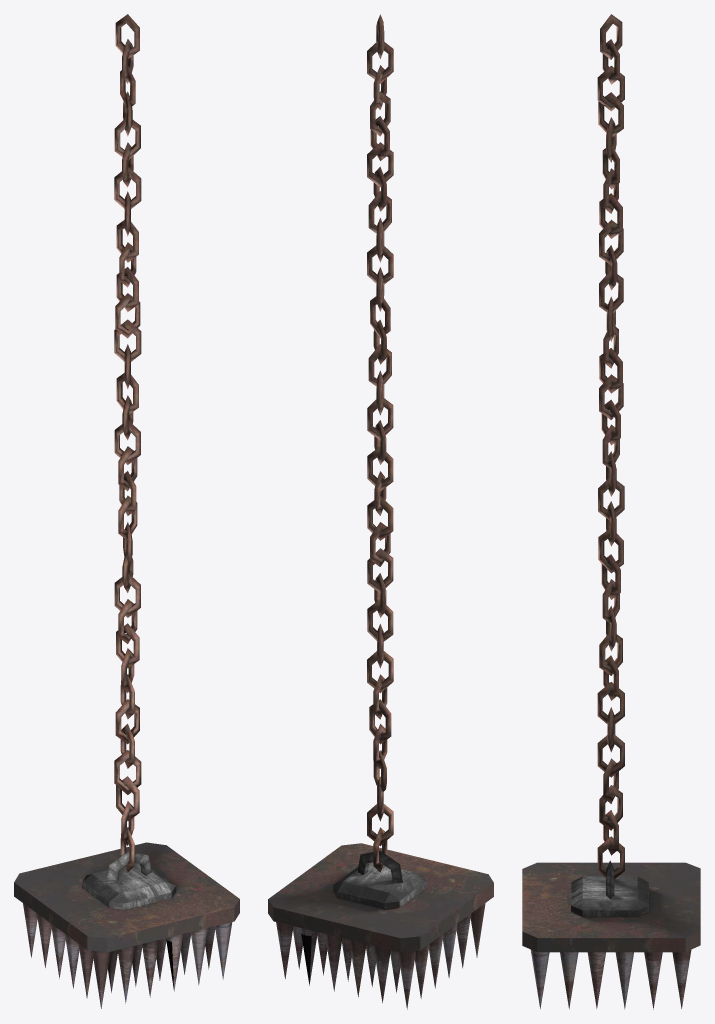
The model's file is trap_spikes.obj.
3 renders of one model, left to right at view 1: azimuth 30°, elevation 25°; view 2: azimuth 150°, elevation 25°; view 3: azimuth 270°, elevation 25°, orthographic.
Parts seen in each view (by area): view 1: Trap_Spikes, Trap_Chain; view 2: Trap_Spikes, Trap_Chain; view 3: Trap_Chain, Trap_Spikes.
Part boxes in pixels (x1=…): Trap_Spikes: x1=14, y1=842, x2=239, y2=1008; Trap_Chain: x1=82, y1=14, x2=175, y2=909; Trap_Spikes: x1=268, y1=843, x2=493, y2=1009; Trap_Chain: x1=333, y1=14, x2=427, y2=908; Trap_Chain: x1=571, y1=14, x2=648, y2=916; Trap_Spikes: x1=522, y1=862, x2=700, y2=1009.
Bounding box in the file's own units: 7.61 × 45.56 × 7.61.
2 materials, 2 textured.
